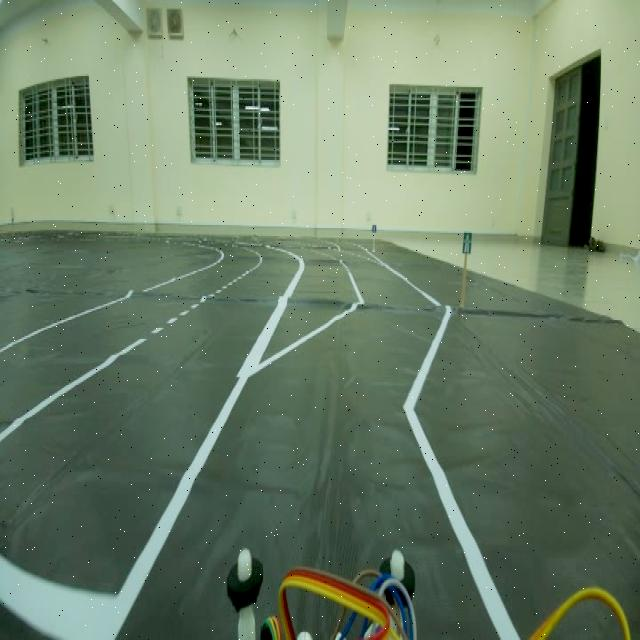highway_entry: (459, 226, 477, 257)
